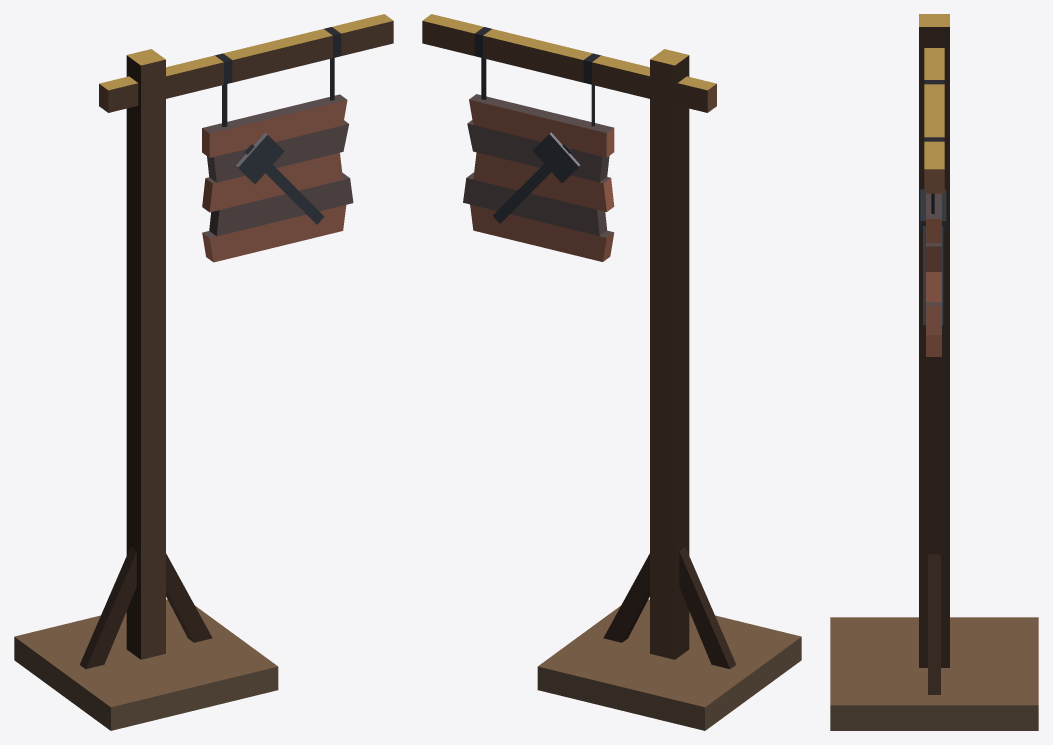
Rendered from TB_D_Prop_Sign_Store_BSmith_B.FBX.
3 renders of one model, left to right at view 1: azimuth 30°, elevation 25°; view 2: azimuth 150°, elevation 25°; view 3: azimuth 270°, elevation 25°, orthographic. The views are drawn at different scales.
Visible parts, largest first — view 1: TB_D_Prop_Sign_Store_BSmith_B; view 2: TB_D_Prop_Sign_Store_BSmith_B; view 3: TB_D_Prop_Sign_Store_BSmith_B.
Boxes of the visible parts, box(x1,y1,x2,y2) form: TB_D_Prop_Sign_Store_BSmith_B: box(14, 14, 393, 730); TB_D_Prop_Sign_Store_BSmith_B: box(422, 14, 801, 730); TB_D_Prop_Sign_Store_BSmith_B: box(830, 14, 1038, 730).
Bounding box in the file's own units: 1.57 × 2.84 × 0.8046.
